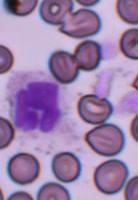N: (7, 68, 70, 134)
